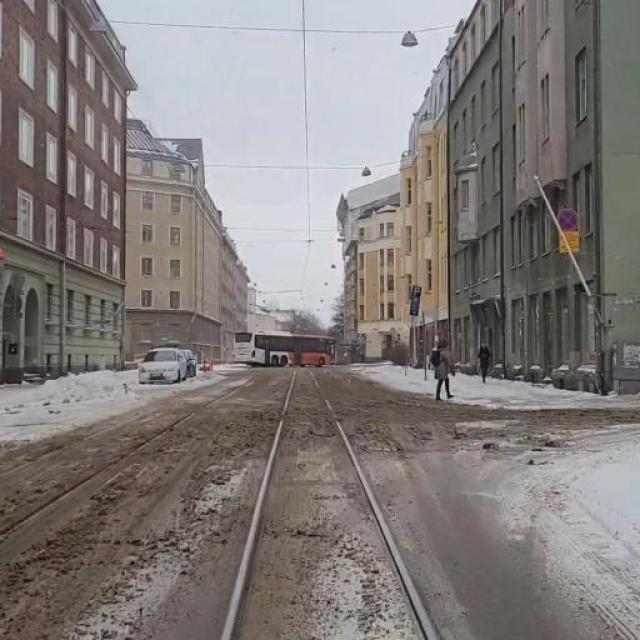people: (426, 337, 456, 398), (473, 329, 492, 384)
vehicle: (232, 324, 340, 367), (136, 346, 192, 385)
